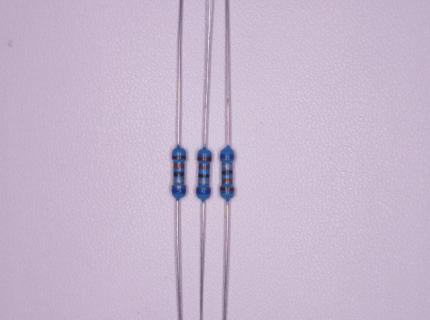Black band: (222, 170, 233, 175), (173, 172, 184, 176), (198, 174, 209, 178)
Blue band: (220, 154, 234, 159), (172, 188, 185, 193), (197, 189, 210, 194)
Brown band: (220, 186, 234, 192), (198, 157, 212, 161), (172, 156, 186, 159)
Grey band: (198, 180, 209, 184), (173, 179, 184, 183), (222, 165, 232, 168)
Orange band: (173, 163, 184, 169), (222, 179, 233, 184), (198, 165, 210, 169)
